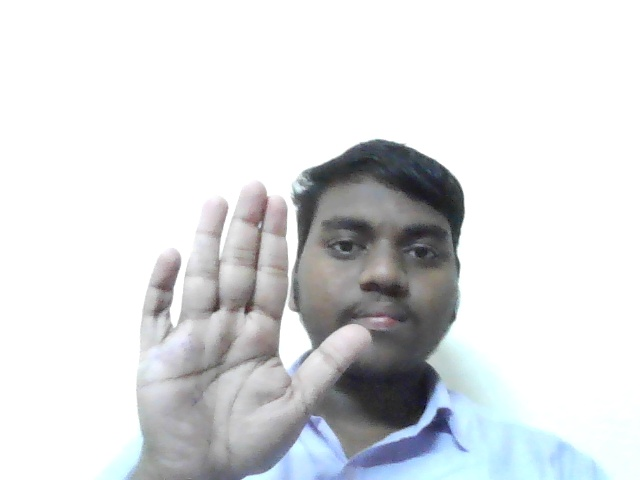Hello: (119, 176, 374, 469)
